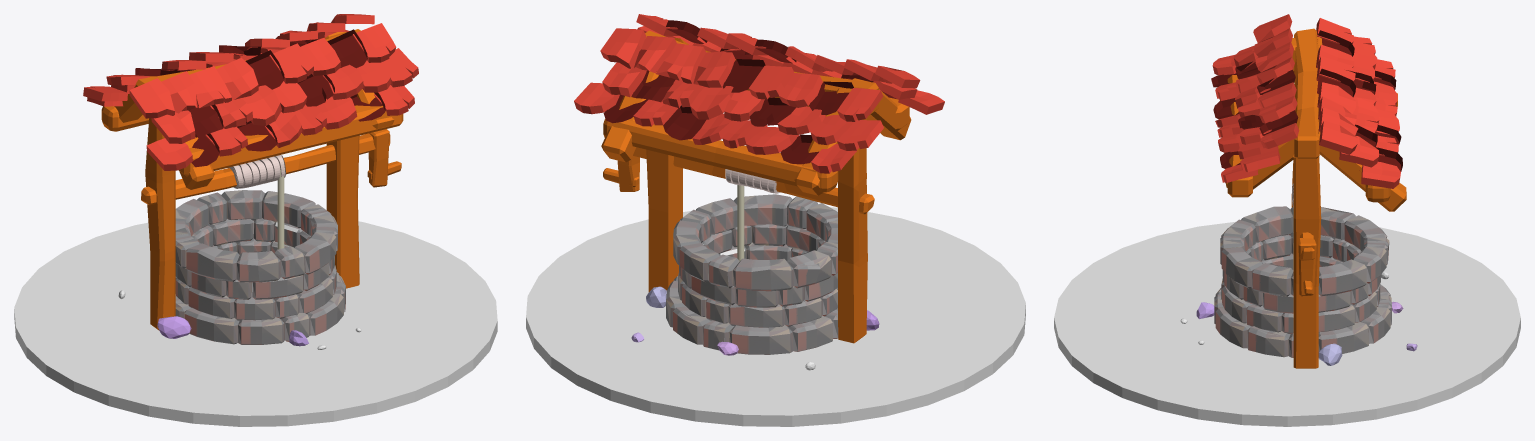
3 renders of one model, left to right at view 1: azimuth 30°, elevation 25°; view 2: azimuth 150°, elevation 25°; view 3: azimuth 270°, elevation 25°, orthographic. The views are drawn at different scales.
Visible parts, largest first — view 1: Cylinder.001, Plane.000, Cube.004, Cube.003, Cube.005, Plane.020, Cube, Cube.001, Cylinder, Icosphere, Cylinder.002; view 2: Cylinder.001, Plane.020, Cube.004, Cube.003, Plane.000, Cube, Cube.005, Cube.001, Cylinder, Cylinder.002; view 3: Cylinder.001, Cube.004, Plane.020, Plane.000, Cube.003, Cube, Cube.005, Cube.001.
Boxes of the visible parts, x1,y1,x2,y2 form: Cylinder.001: (14,221,497,426); Plane.000: (129,23,418,170); Cube.004: (101,29,403,330); Cube.003: (175,190,337,282); Cube.005: (175,218,334,299); Plane.020: (83,14,374,106); Cube: (175,272,345,344); Cube.001: (175,234,336,320); Cylinder: (228,155,285,188); Icosphere: (157,316,191,338); Cylinder.002: (277,169,284,249); Cylinder.001: (526,207,1025,426); Plane.020: (574,28,883,173); Cube.004: (601,30,911,343); Cube.003: (673,194,837,291); Plane.000: (636,14,944,114); Cube: (666,276,838,354); Cube.005: (679,224,837,307); Cube.001: (678,242,837,327); Cylinder: (725,169,780,193); Cylinder.002: (737,185,744,260); Cylinder.001: (1054,221,1520,426); Cube.004: (1220,28,1406,368); Plane.020: (1316,18,1402,188); Plane.000: (1211,14,1299,182); Cube.003: (1220,206,1389,296); Cube: (1214,284,1391,357); Cube.005: (1222,232,1380,313); Cube.001: (1221,253,1380,333).
Bounding box in the file's own units: 37.09 × 22.9 × 37.09.
12 materials, 1 textured.
